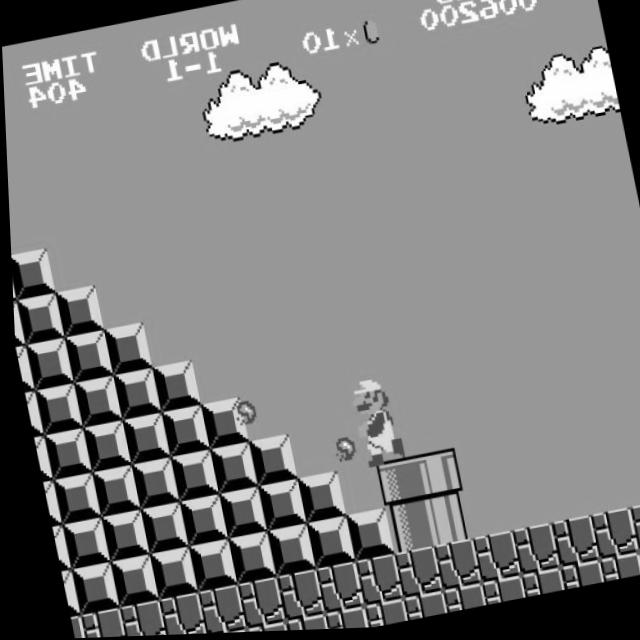14- pipe: (419, 495, 469, 549), (379, 503, 429, 556)
15- pipe_head: (410, 451, 460, 505), (371, 458, 421, 512)
17- undestructible_block: (584, 511, 634, 565), (388, 548, 438, 602), (270, 570, 320, 624), (545, 519, 595, 572), (506, 526, 556, 579), (427, 541, 477, 594), (349, 556, 399, 609), (231, 578, 281, 631), (310, 563, 359, 617), (467, 534, 516, 587), (192, 585, 241, 635), (152, 593, 201, 636), (113, 600, 162, 637), (73, 607, 122, 638), (476, 578, 521, 609), (397, 593, 442, 624), (594, 556, 639, 586), (554, 564, 599, 594), (515, 571, 560, 601), (436, 586, 481, 616), (357, 601, 402, 630), (319, 608, 363, 631), (623, 504, 640, 557), (279, 615, 323, 633), (240, 622, 284, 634), (65, 614, 83, 639), (633, 549, 640, 579)
4- fire_mario: (344, 370, 405, 471)
5- fireball: (328, 435, 353, 465), (229, 399, 254, 429)
9- hard_block: (157, 405, 207, 459), (183, 540, 233, 594), (144, 547, 194, 601), (52, 285, 102, 339), (78, 420, 128, 474), (95, 510, 145, 564), (39, 427, 89, 481), (56, 517, 106, 571), (65, 562, 115, 616), (340, 511, 390, 564), (292, 473, 342, 526), (301, 518, 351, 571), (196, 398, 246, 451), (213, 488, 263, 541), (222, 533, 272, 586), (174, 496, 224, 549), (100, 323, 150, 376), (135, 503, 185, 556), (69, 375, 119, 428), (13, 293, 63, 346), (21, 338, 71, 391), (30, 383, 80, 436), (61, 330, 110, 384), (105, 555, 154, 609), (244, 436, 294, 488), (148, 361, 198, 413), (165, 451, 215, 503), (126, 458, 176, 510), (87, 466, 137, 518), (253, 481, 302, 534), (262, 526, 311, 579), (205, 443, 254, 496), (109, 368, 158, 421), (118, 413, 167, 466), (48, 473, 97, 525), (9, 248, 53, 300), (21, 389, 41, 437), (56, 569, 76, 617), (47, 525, 67, 572), (38, 480, 58, 526), (30, 435, 49, 482), (13, 345, 32, 391), (10, 300, 23, 347), (9, 255, 15, 302)
